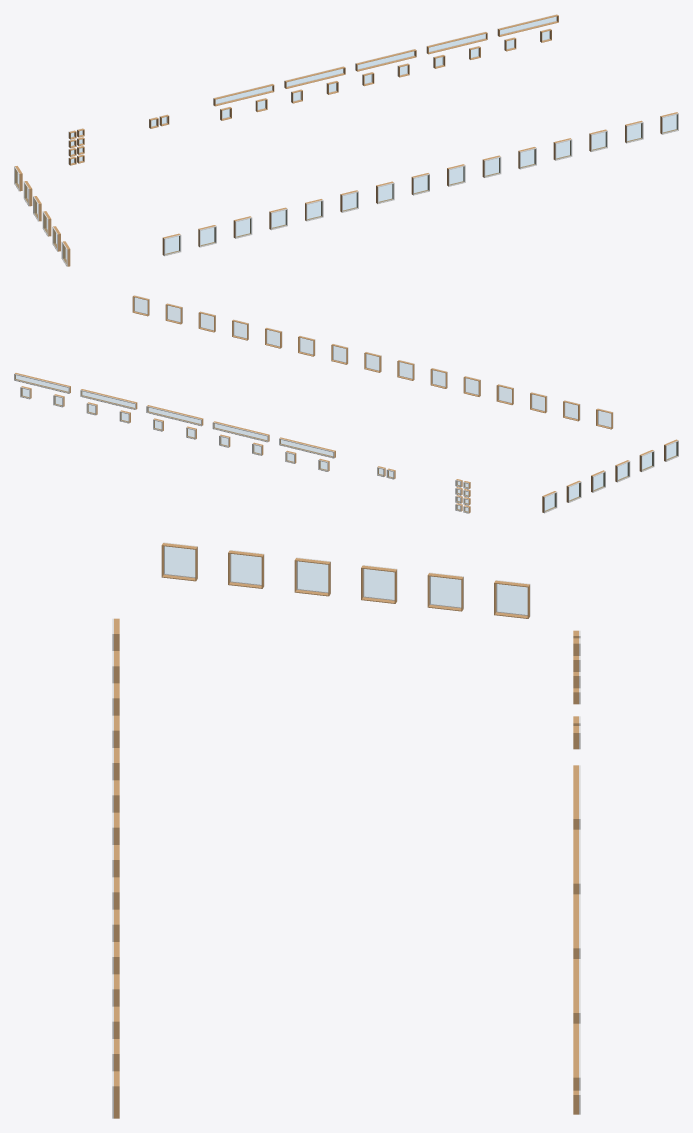
The model's file is Building Model - Excavation and Trench - updated_1kn71nZ$z5OvtVVlfMoR7m-Piso 4_IfcWindow.dae.
The picture shows the model from 3 angles, top to bottom: view 1: azimuth 30°, elevation 25°; view 2: azimuth 150°, elevation 25°; view 3: azimuth 270°, elevation 25°; orthographic projection. The views are drawn at different scales.
Visible parts, largest first — view 1: 0jFAAIDIf1MvwbwQYdFyLp, 0jFAAIDIf1MvwbwQYdFyLc, 0jFAAIDIf1MvwbwQYdFyLm, 0jFAAIDIf1MvwbwQYdFyLo, 0jFAAIDIf1MvwbwQYdFyLj, 0jFAAIDIf1MvwbwQYdFyMO, 0jFAAIDIf1MvwbwQYdFyMQ, 0jFAAIDIf1MvwbwQYdFyMJ; view 2: 0jFAAIDIf1MvwbwQYdFyLj, 0jFAAIDIf1MvwbwQYdFyLp, 0jFAAIDIf1MvwbwQYdFyLo, 0jFAAIDIf1MvwbwQYdFyLc, 0jFAAIDIf1MvwbwQYdFyLm; view 3: 0jFAAIDIf1MvwbwQYdFyLX, 0jFAAIDIf1MvwbwQYdFyLW, 0jFAAIDIf1MvwbwQYdFyLY, 0jFAAIDIf1MvwbwQYdFyMS, 0jFAAIDIf1MvwbwQYdFyLZ, 0jFAAIDIf1MvwbwQYdFyMT.
Part boxes in pixels (x1,y1,x2,y2): 0jFAAIDIf1MvwbwQYdFyLp: [426, 31, 487, 54]; 0jFAAIDIf1MvwbwQYdFyLc: [213, 83, 274, 106]; 0jFAAIDIf1MvwbwQYdFyLm: [497, 14, 558, 36]; 0jFAAIDIf1MvwbwQYdFyLo: [355, 49, 416, 71]; 0jFAAIDIf1MvwbwQYdFyLj: [284, 66, 345, 88]; 0jFAAIDIf1MvwbwQYdFyMO: [553, 138, 572, 160]; 0jFAAIDIf1MvwbwQYdFyMQ: [482, 155, 501, 177]; 0jFAAIDIf1MvwbwQYdFyMJ: [233, 216, 252, 238]; 0jFAAIDIf1MvwbwQYdFyLj: [212, 421, 269, 442]; 0jFAAIDIf1MvwbwQYdFyLp: [80, 389, 137, 409]; 0jFAAIDIf1MvwbwQYdFyLo: [146, 405, 203, 426]; 0jFAAIDIf1MvwbwQYdFyLc: [279, 437, 335, 458]; 0jFAAIDIf1MvwbwQYdFyLm: [14, 373, 70, 393]; 0jFAAIDIf1MvwbwQYdFyLX: [494, 580, 530, 618]; 0jFAAIDIf1MvwbwQYdFyLW: [427, 572, 463, 611]; 0jFAAIDIf1MvwbwQYdFyLY: [294, 557, 330, 596]; 0jFAAIDIf1MvwbwQYdFyMS: [161, 542, 197, 581]; 0jFAAIDIf1MvwbwQYdFyLZ: [361, 565, 397, 603]; 0jFAAIDIf1MvwbwQYdFyMT: [228, 550, 264, 588].
Size of the model in its own units: 50.8 by 18.36 by 2.63.
